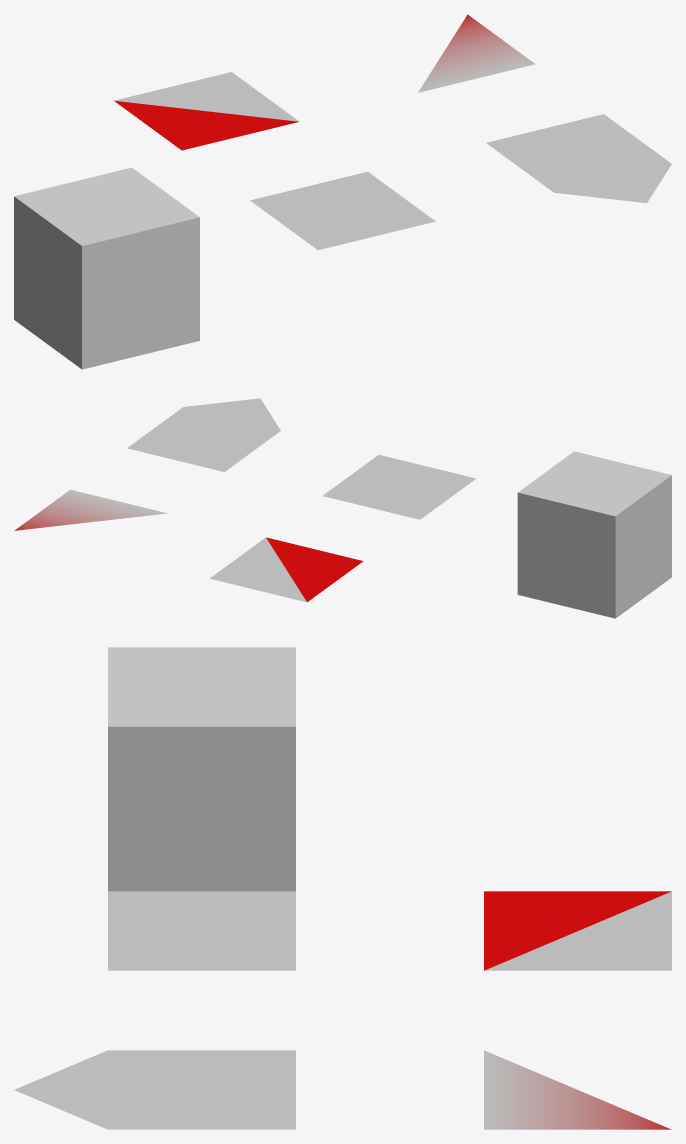
The picture shows the model from 3 angles, top to bottom: view 1: azimuth 30°, elevation 25°; view 2: azimuth 150°, elevation 25°; view 3: azimuth 270°, elevation 25°; orthographic projection. The views are drawn at different scales.
Visible parts, largest first — view 1: NoMaterial, Ngon, Quad, TwoMaterials, Triangle; view 2: NoMaterial, Ngon, Quad, TwoMaterials, Triangle; view 3: NoMaterial, Ngon, Quad, TwoMaterials, Triangle.
Part boxes in pixels (x1=…): NoMaterial: x1=14, y1=167, x2=199, y2=369; Ngon: x1=486, y1=114, x2=671, y2=203; Quad: x1=250, y1=171, x2=435, y2=250; TwoMaterials: x1=114, y1=72, x2=299, y2=150; Triangle: x1=418, y1=14, x2=535, y2=92; NoMaterial: x1=517, y1=451, x2=671, y2=618; Ngon: x1=127, y1=398, x2=280, y2=471; Quad: x1=323, y1=455, x2=475, y2=519; TwoMaterials: x1=210, y1=537, x2=363, y2=602; Triangle: x1=14, y1=489, x2=167, y2=530; NoMaterial: x1=108, y1=647, x2=295, y2=891; Ngon: x1=14, y1=1050, x2=295, y2=1129; Quad: x1=108, y1=891, x2=295, y2=970; TwoMaterials: x1=484, y1=891, x2=671, y2=970; Triangle: x1=484, y1=1050, x2=670, y2=1129.
Bounding box in the file's own units: 10 × 2 × 7.
